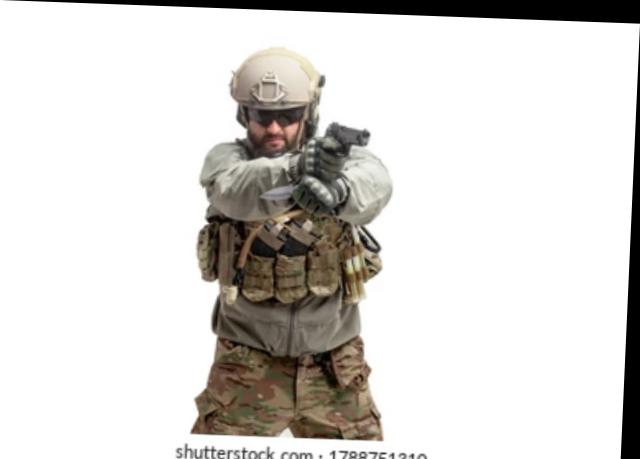other: (195, 55, 398, 435)
